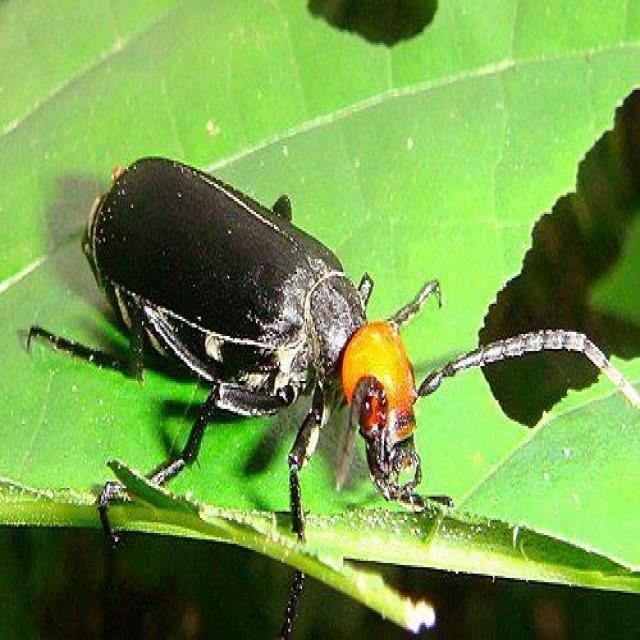BlisterBeetle-Adult-: (48, 154, 470, 526)
